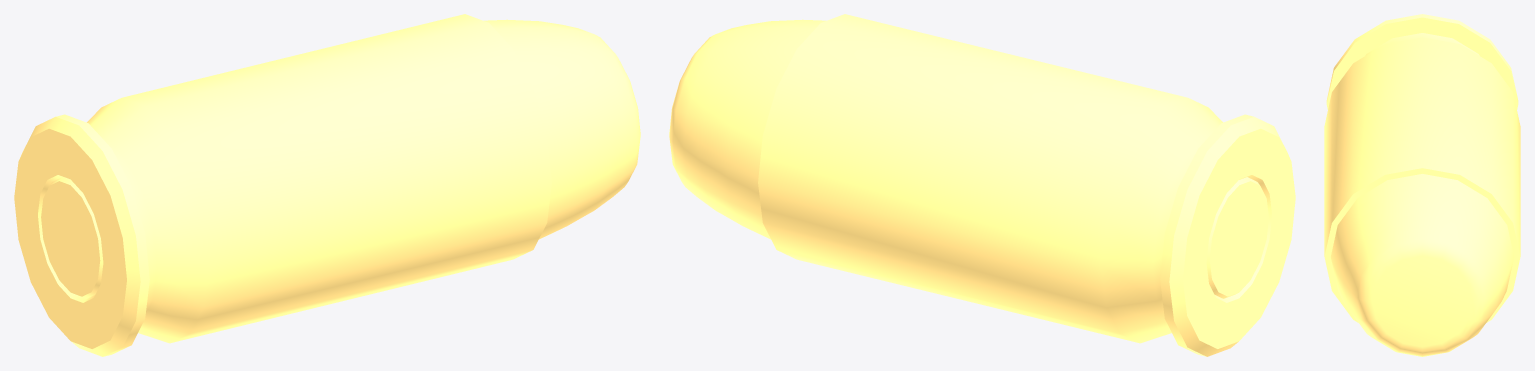
Rendered from bullet_45acp.glb.
The picture shows the model from 3 angles, left to right: view 1: azimuth 30°, elevation 25°; view 2: azimuth 150°, elevation 25°; view 3: azimuth 270°, elevation 25°; orthographic projection. The views are drawn at different scales.
Parts seen in each view (by area): view 1: Bullet45ACP; view 2: Bullet45ACP; view 3: Bullet45ACP.
Boxes of the visible parts, x1,y1,x2,y2 form: Bullet45ACP: [14, 14, 640, 356]; Bullet45ACP: [669, 14, 1295, 356]; Bullet45ACP: [1324, 14, 1520, 356].
Size of the model in its own units: 0.16 by 0.065 by 0.065.
